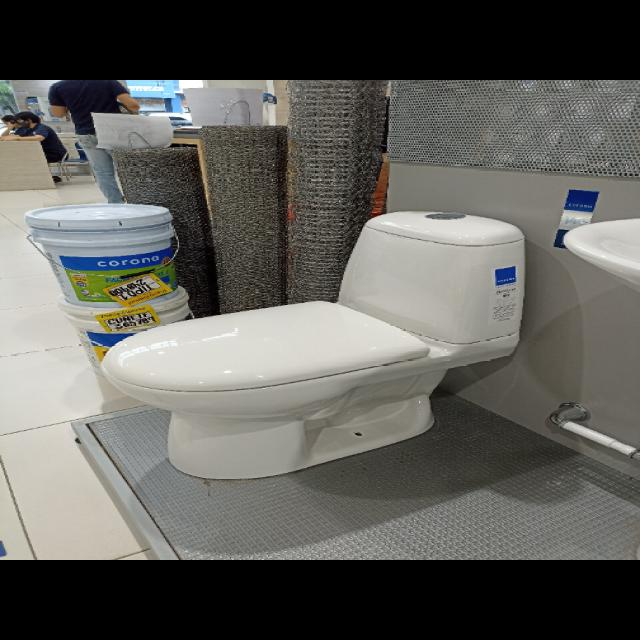toilet: (99, 209, 526, 480)
